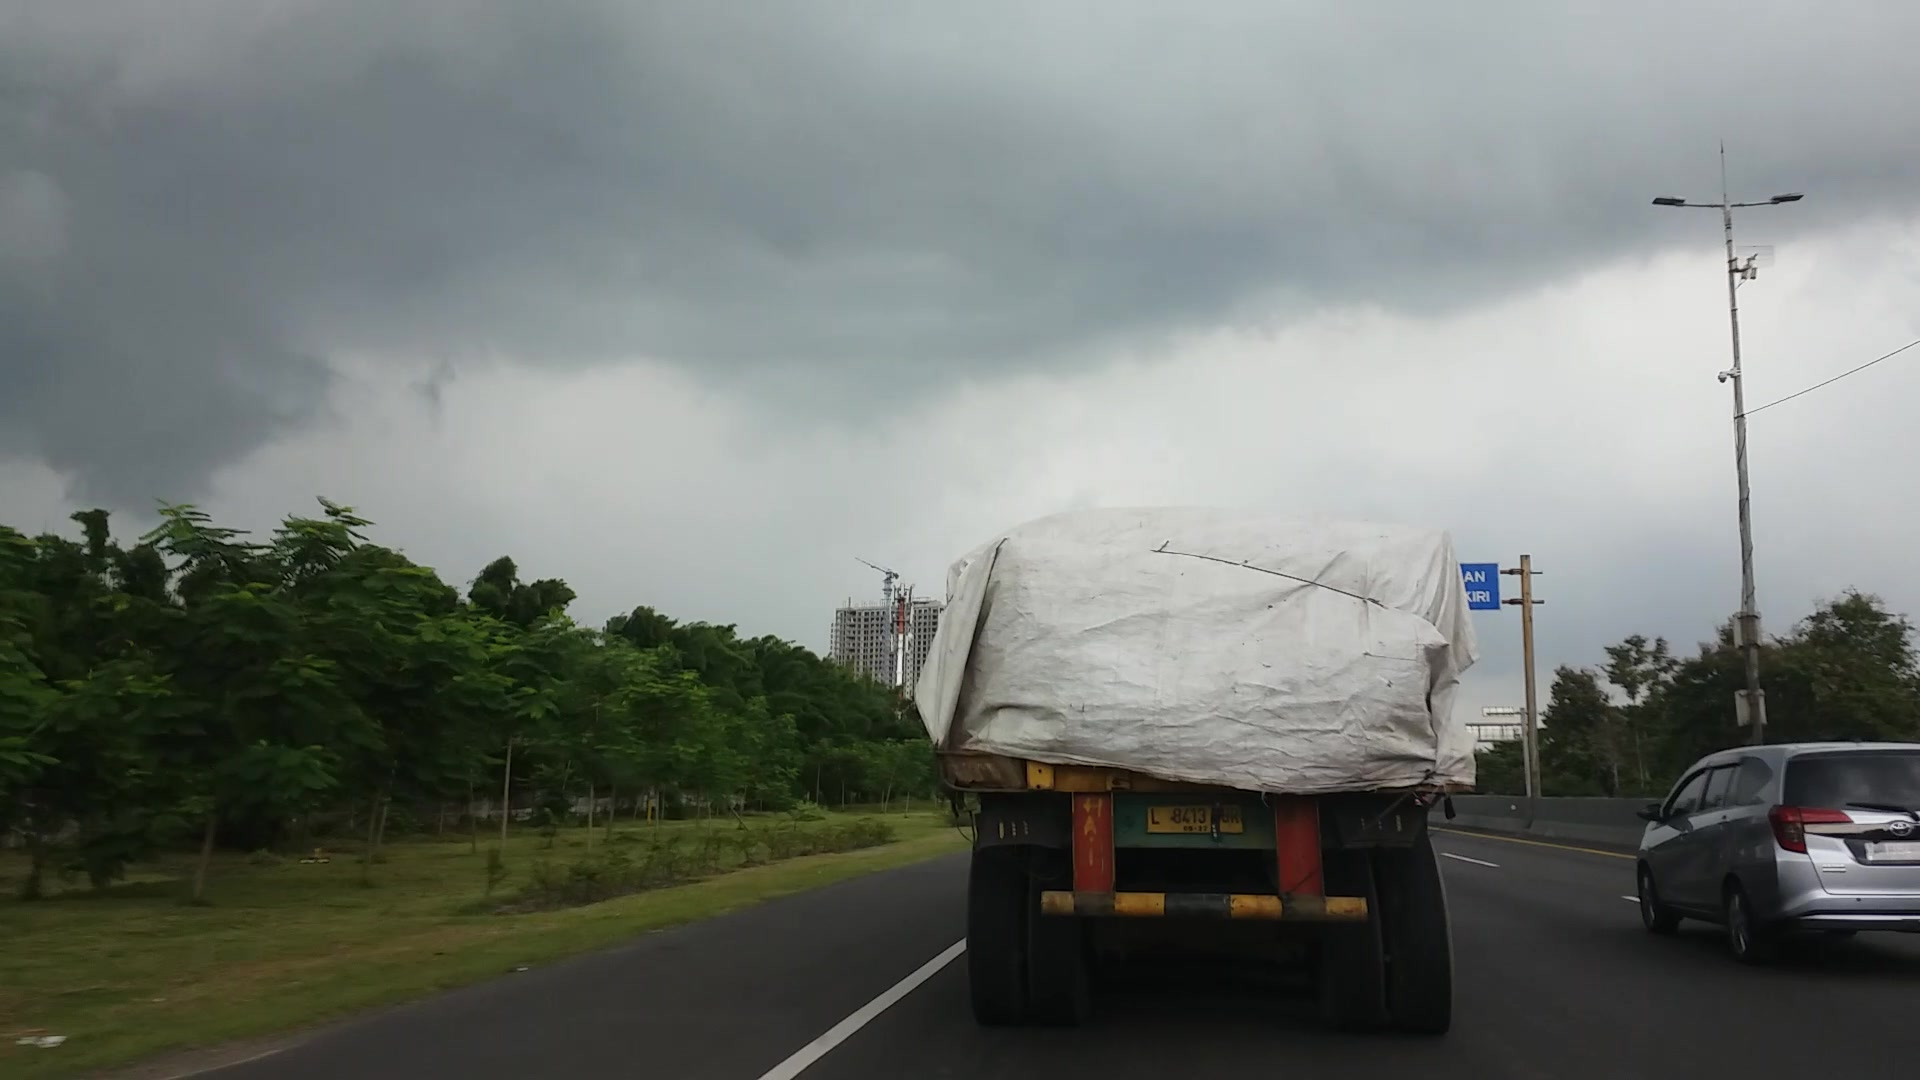plate_positive: (1145, 802, 1242, 833)
